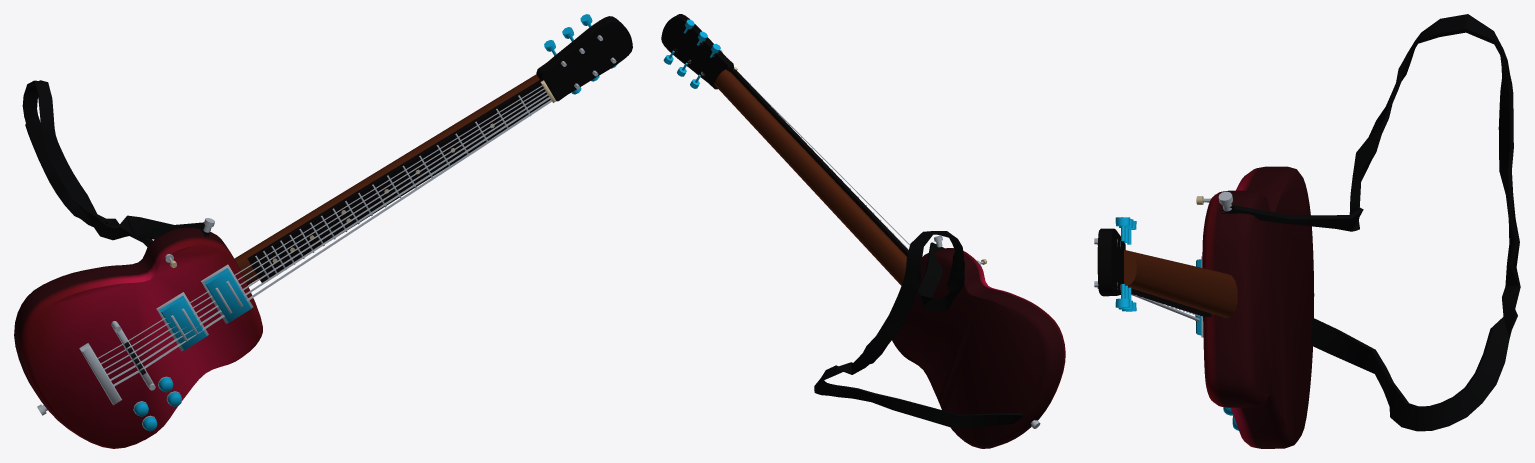
File: instrument-05-guitar-v2.glb
3 renders of one model, left to right at view 1: azimuth 30°, elevation 25°; view 2: azimuth 150°, elevation 25°; view 3: azimuth 270°, elevation 25°, orthographic. The views are drawn at different scales.
Visible parts, largest first — view 1: guitar_noodle_geometry; view 2: guitar_noodle_geometry; view 3: guitar_noodle_geometry.
Boxes of the visible parts, x1,y1,x2,y2 form: guitar_noodle_geometry: (14,14,632,448); guitar_noodle_geometry: (661,14,1065,448); guitar_noodle_geometry: (1094,14,1520,448).
Size of the model in its own units: 0.8441 by 0.5467 by 0.4257.
